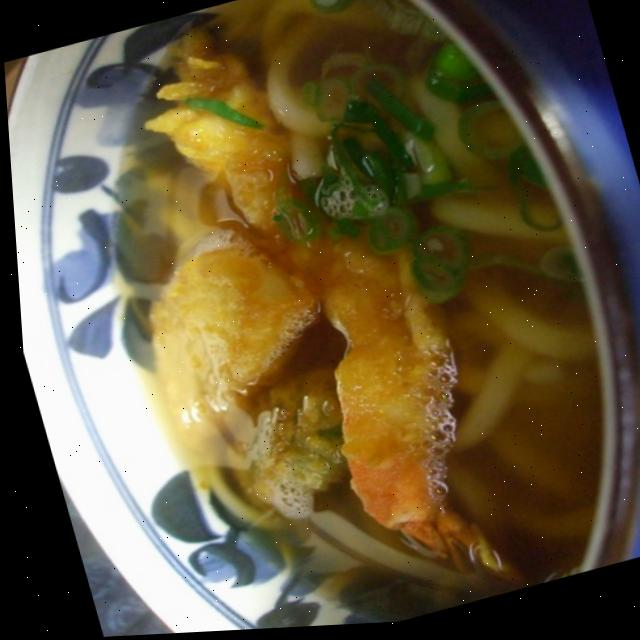面条主食: (33, 0, 640, 639)
